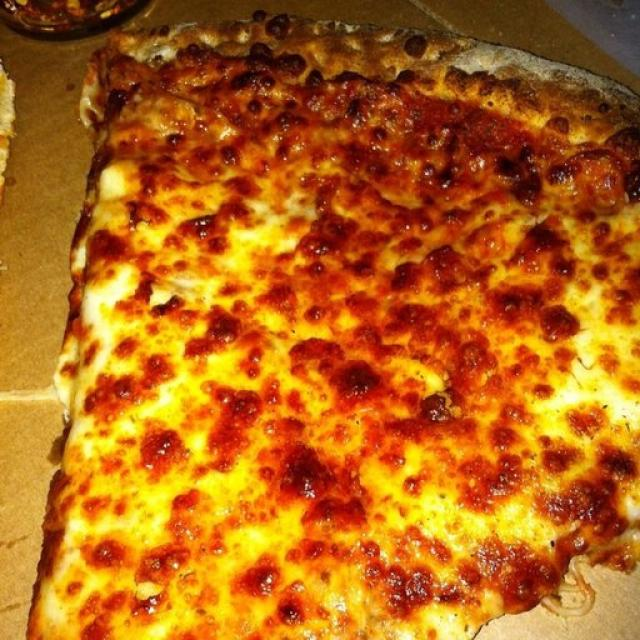Pizza: (30, 16, 637, 640)
